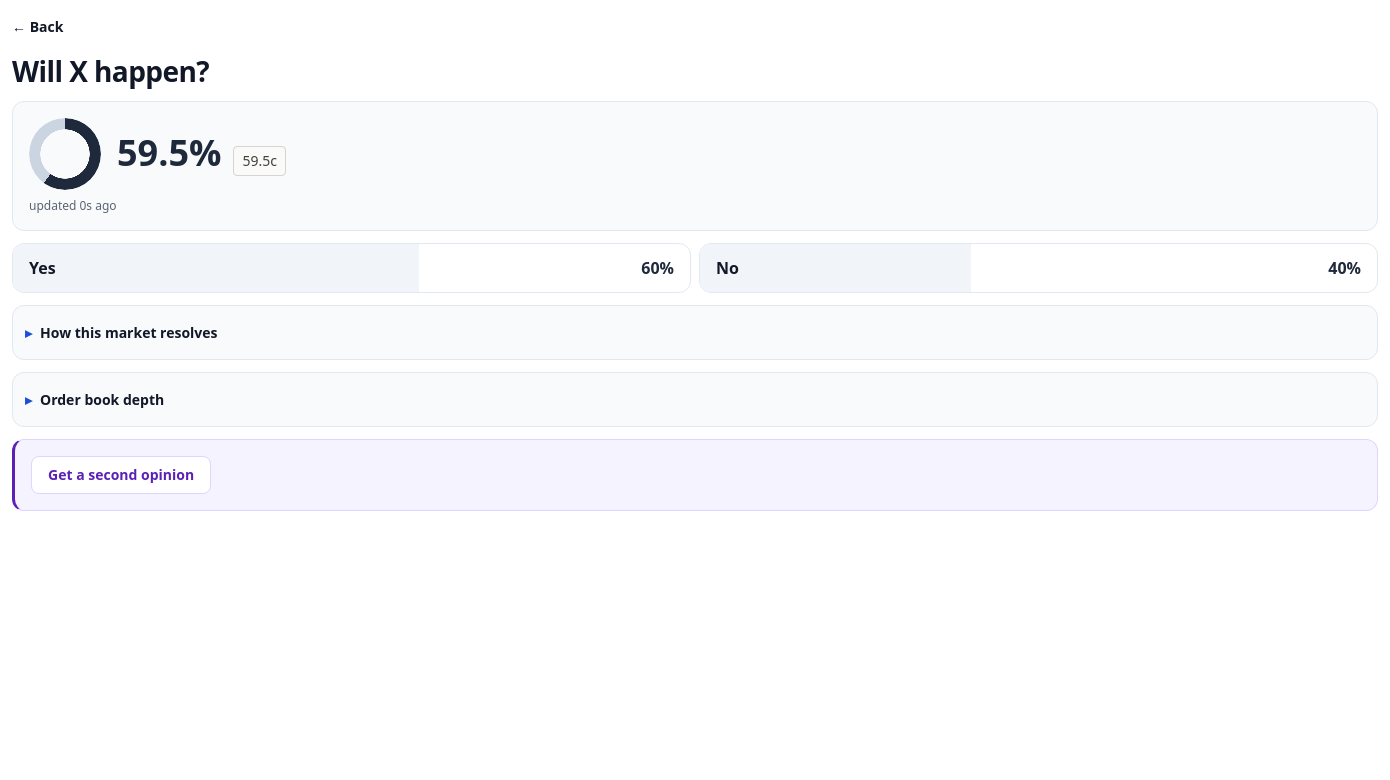
Test case: MarketDetailState › reaches the resolution criteria in one interaction
Expected: the text "Resolves YES if X happens" is not shown
What coordinates should you click on to do the following:
click the button "How this market resolves"
I would click on:
 (129, 332)
Its box is [25,318,1365,347].
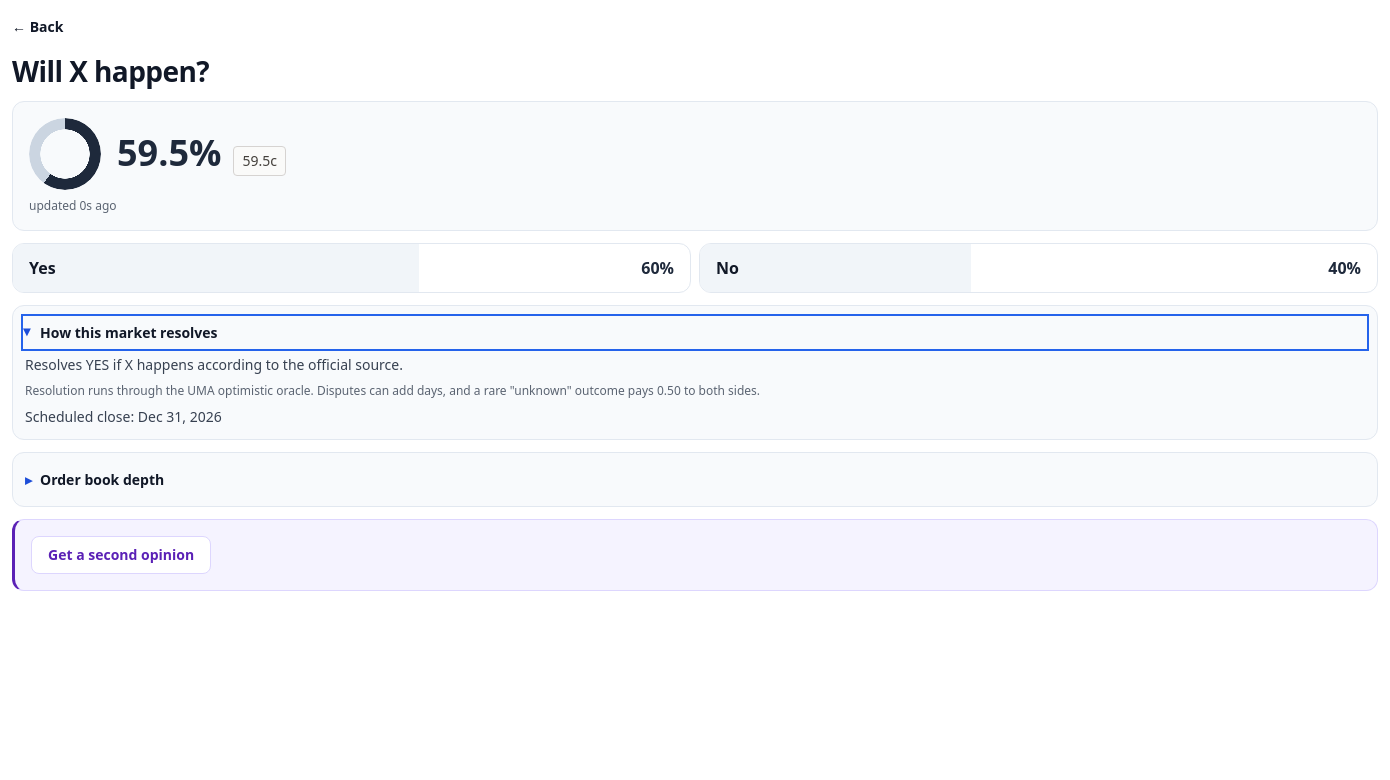
Expected: the text "Resolves YES if X happens according to the official source." is shown, [25,355,403,374]
